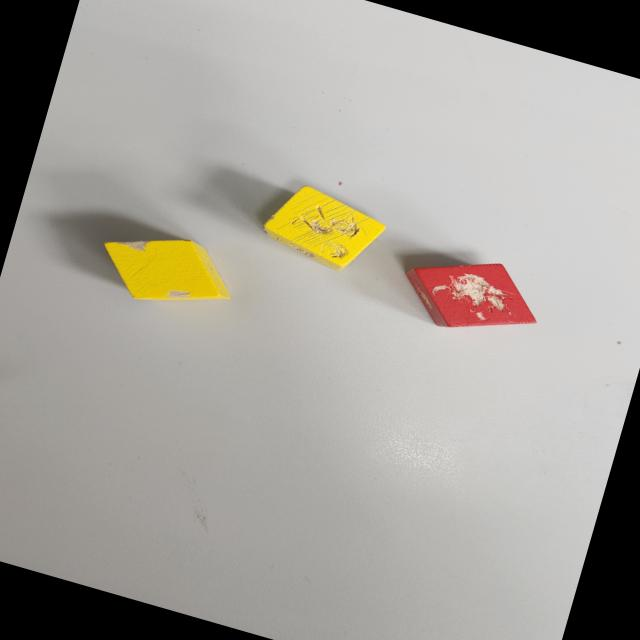broken: (394, 238, 547, 352), (90, 217, 242, 324), (255, 176, 393, 281)
